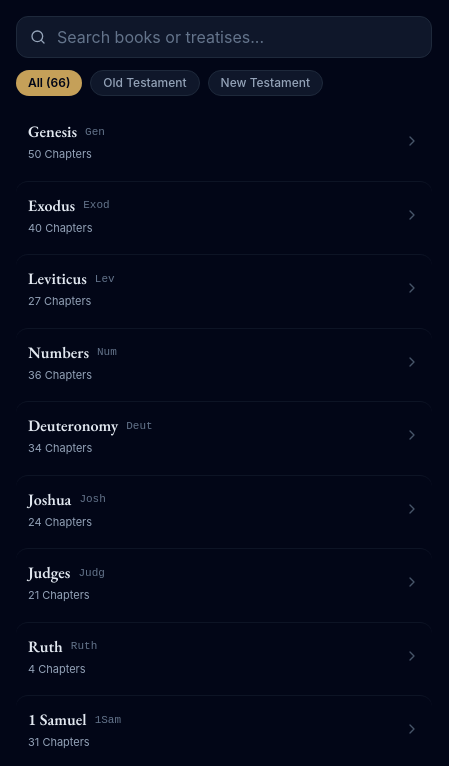
BookListScreen component › filters books by section pill
This screenshot has width=449, height=766.
// Click 'New Testament' section pill
Click the button "New Testament": x=265, y=83 [208,70,323,96]
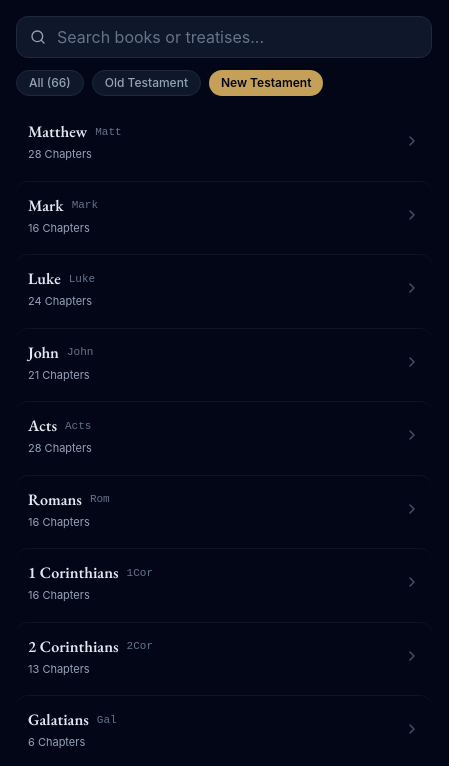
Expected: the text "Matthew" is shown, [28,120,87,144]
Expected: the button "Genesis" is gone
Expected: the button "Exodus" is gone
